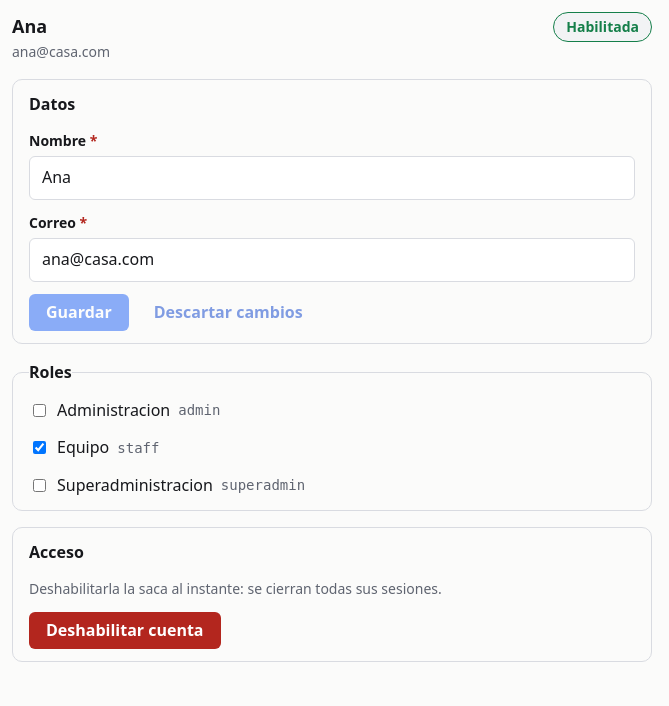
Test: FichaDeCuenta › un 409 con la version intacta es el correo de otra cuenta
The image size is (669, 706).
Replace the text in the field labelled "Correo *" with "bea@casa.com" at (332, 260), box x1=29 y1=238 x2=635 y2=282
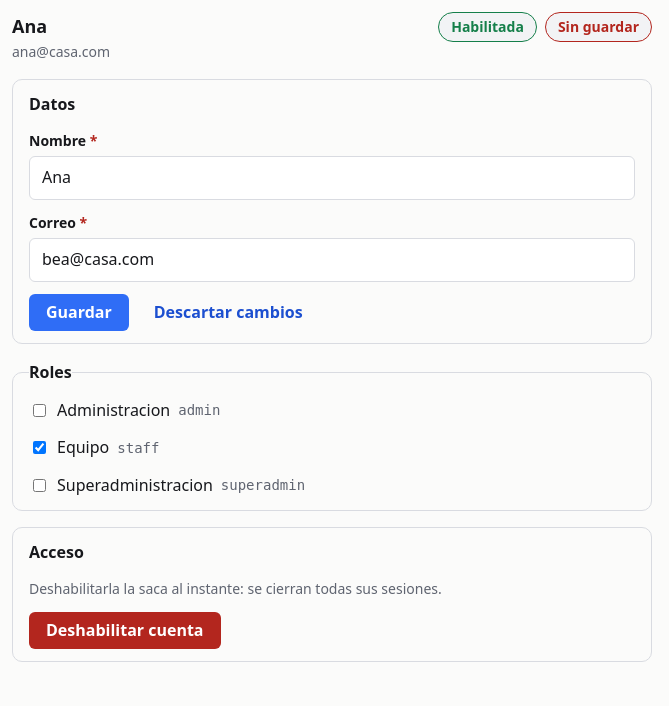
Click the button "Guardar" at (79, 312), box x1=29 y1=294 x2=129 y2=331
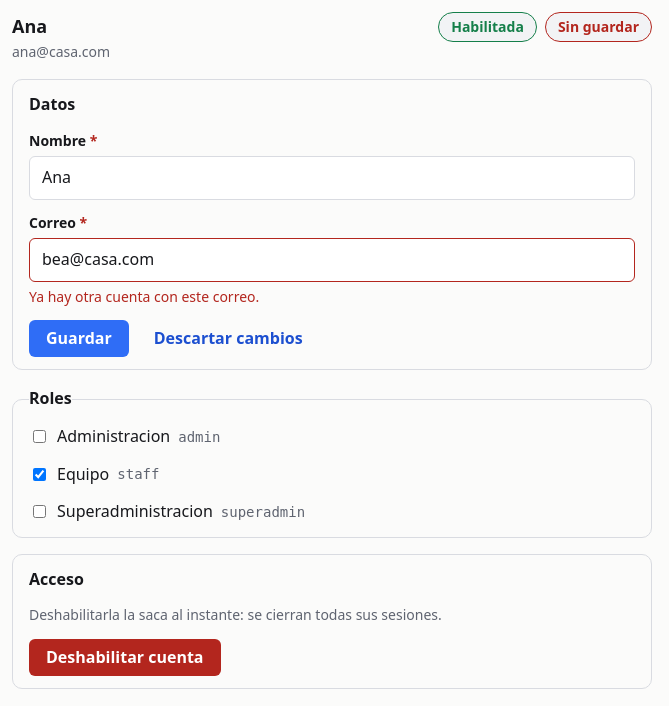
Expected: the text "Ya hay otra cuenta con este correo" is shown, x1=29 y1=287 x2=259 y2=306
